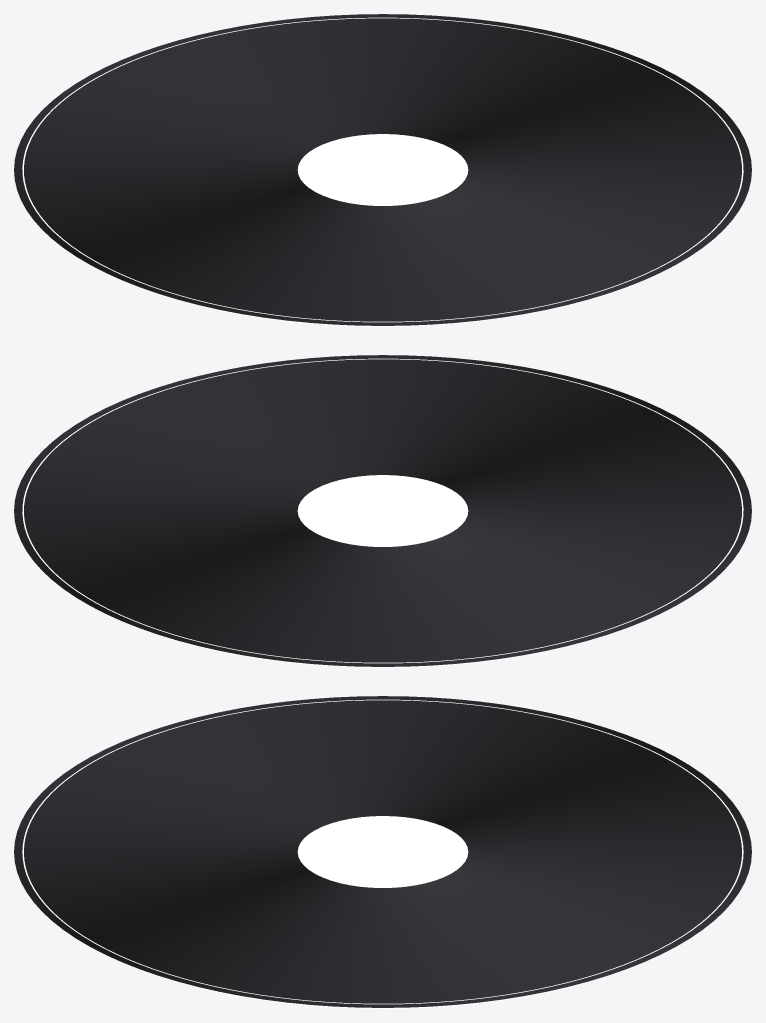
File: ufo_belly_green.glb
3 views of the same model, one above another, from view 1: azimuth 30°, elevation 25°; view 2: azimuth 150°, elevation 25°; view 3: azimuth 270°, elevation 25° (orthographic).
Parts seen in each view (by area): view 1: ufo_belly_green; view 2: ufo_belly_green; view 3: ufo_belly_green.
Boxes of the visible parts, x1,y1,x2,y2 form: ufo_belly_green: (14,14,751,326); ufo_belly_green: (14,355,751,667); ufo_belly_green: (14,696,751,1008).
Bounding box in the file's own units: 242 × 7.56 × 242.
